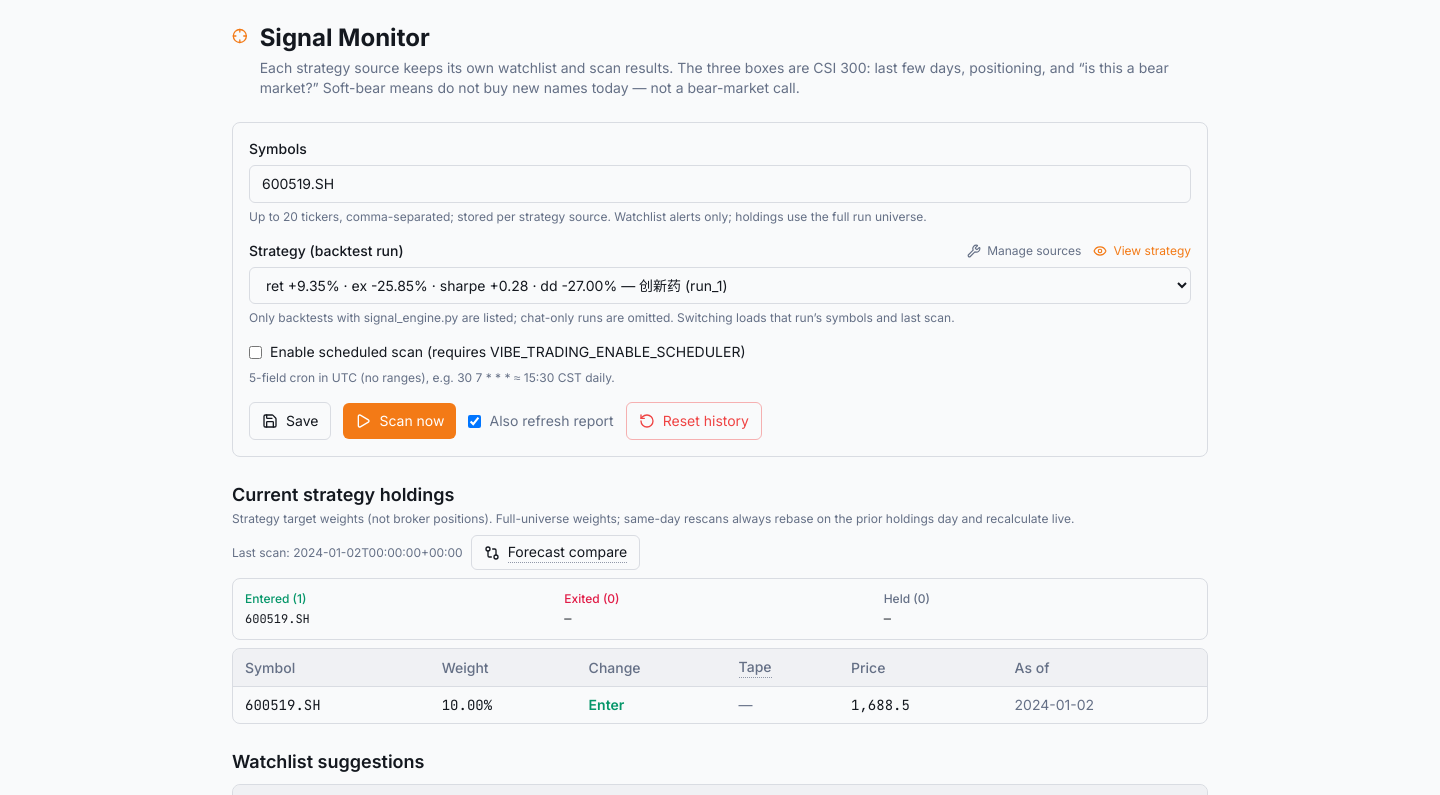
Scenario: Monitor page › resets strategy history after confirm and applies the fresh scan board
This screenshot has width=1440, height=795.
What coordinates should you click on to do the following:
click the button "Reset history"
I would click on:
 (694, 421)
Its box is top-left (626, 402), bottom-right (762, 440).
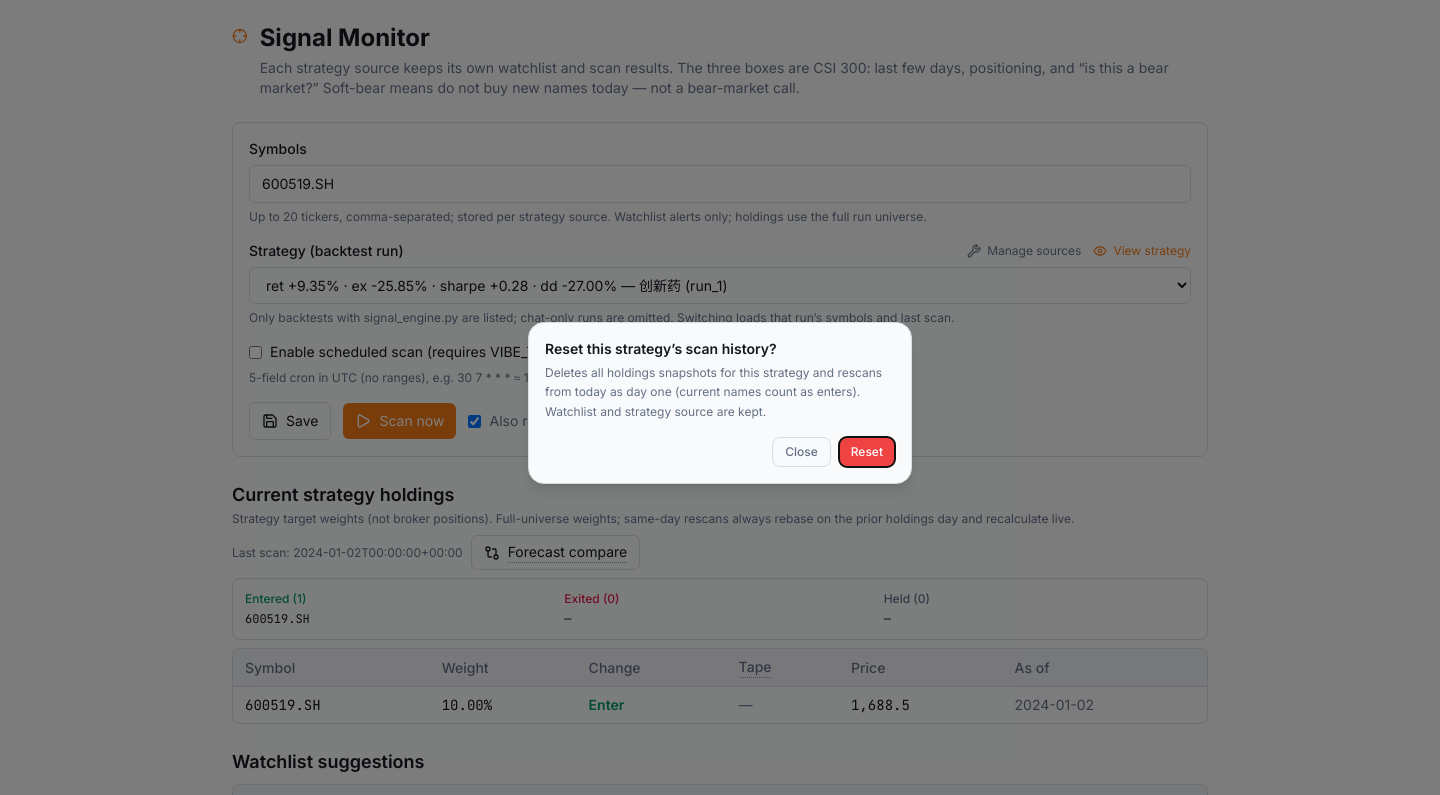
Expected: the heading "Reset this strategy’s scan history?" is shown, top-left (545, 340), bottom-right (777, 357)
What coordinates should you click on to do the following:
click the button "Reset"
I would click on:
 (867, 452)
Its box is top-left (839, 437), bottom-right (895, 467).
(page scrolled)
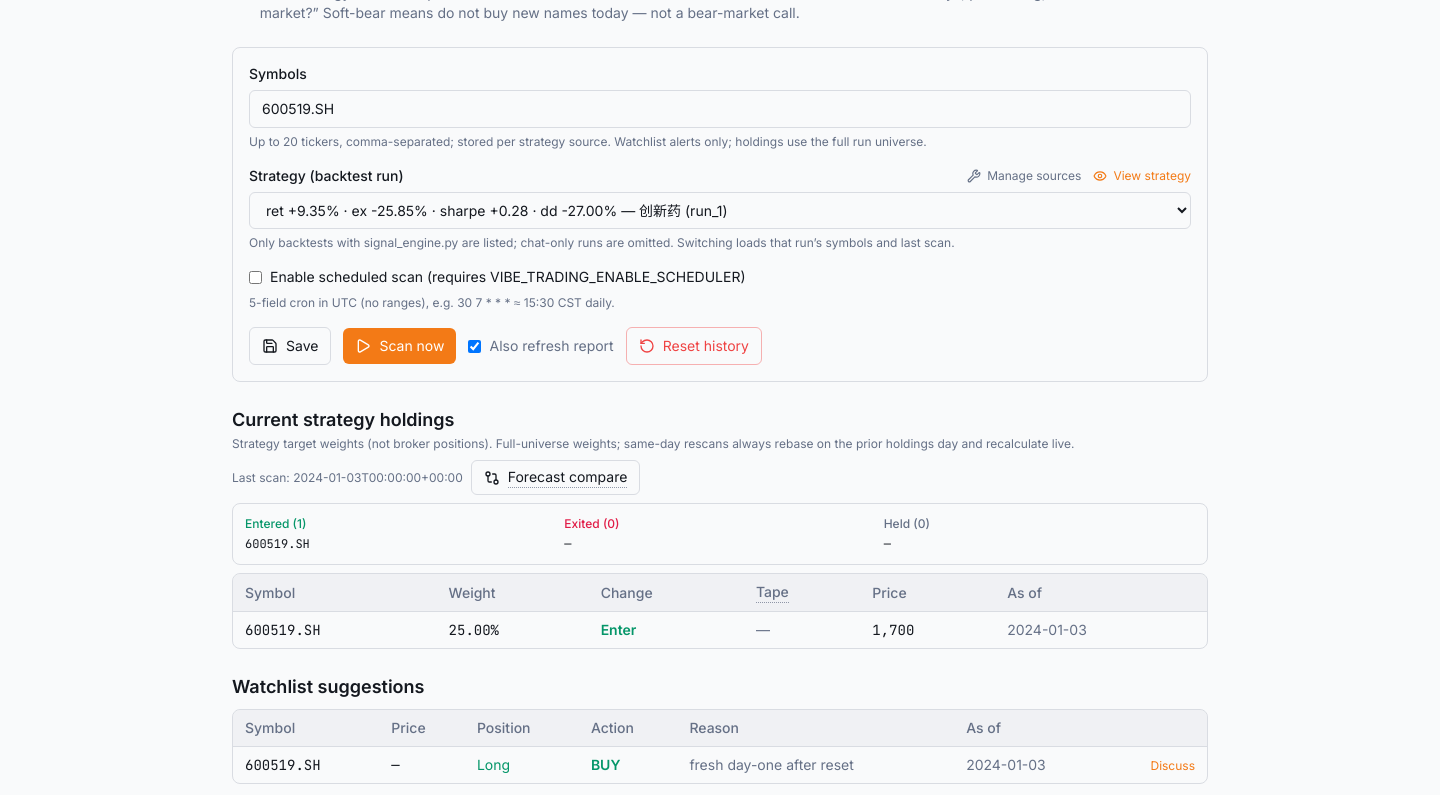
Expected: the text "fresh day-one after reset" is shown, top-left (677, 746), bottom-right (954, 783)
